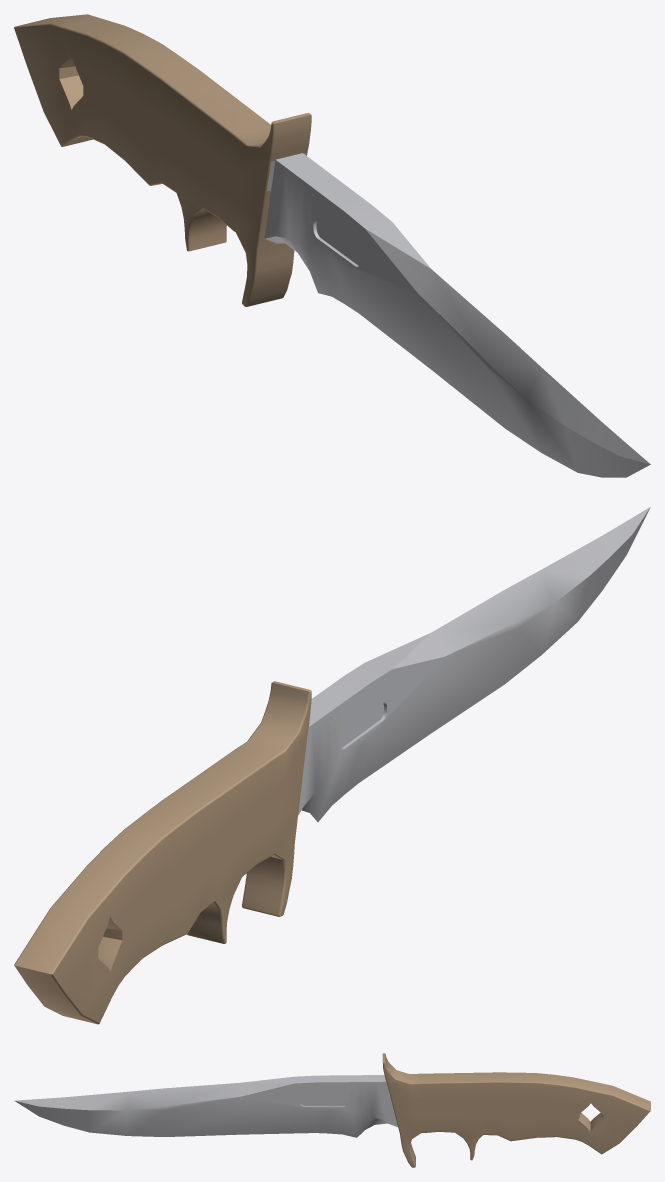
File: Knife.fbx
The picture shows the model from 3 angles, top to bottom: view 1: azimuth 30°, elevation 25°; view 2: azimuth 150°, elevation 25°; view 3: azimuth 270°, elevation 25°; orthographic projection. The views are drawn at different scales.
Visible parts, largest first — view 1: FACA_LOWPOLY; view 2: FACA_LOWPOLY; view 3: FACA_LOWPOLY.
Boxes of the visible parts, left/top/right/bottom form: FACA_LOWPOLY: left=14, top=14, right=650, bottom=477; FACA_LOWPOLY: left=14, top=507, right=650, bottom=1024; FACA_LOWPOLY: left=14, top=1053, right=650, bottom=1167.
Bounding box in the file's own units: 32.05 × 161 × 878.
